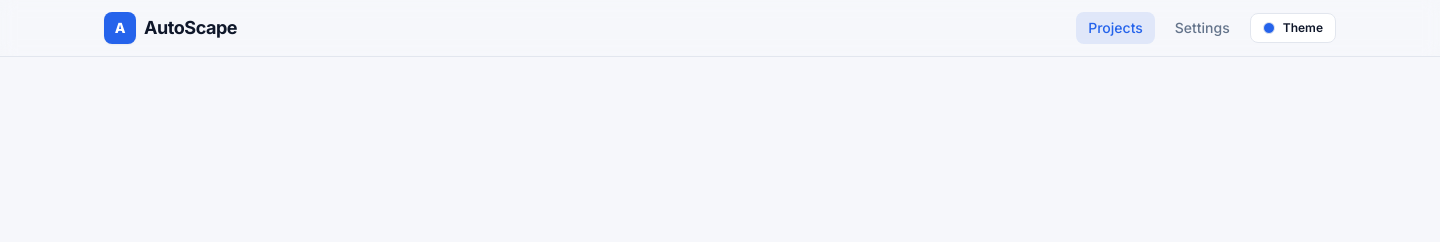
Test: ThemeSwitcher › lists every theme with a swatch and only checkmarks the active theme
This screenshot has width=1440, height=242.
Click the button "Theme". click: click(1293, 28)
box: [1250,13,1336,43]
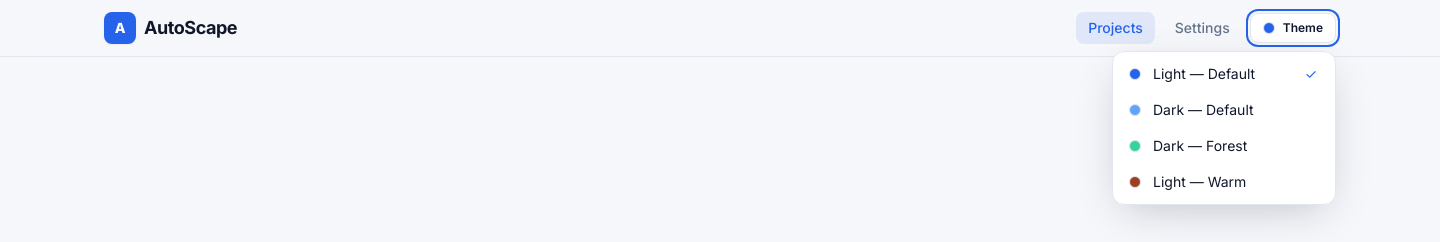
Check: the menu item "Light — Default ✓" is shown, box [1117,56,1331,92]
